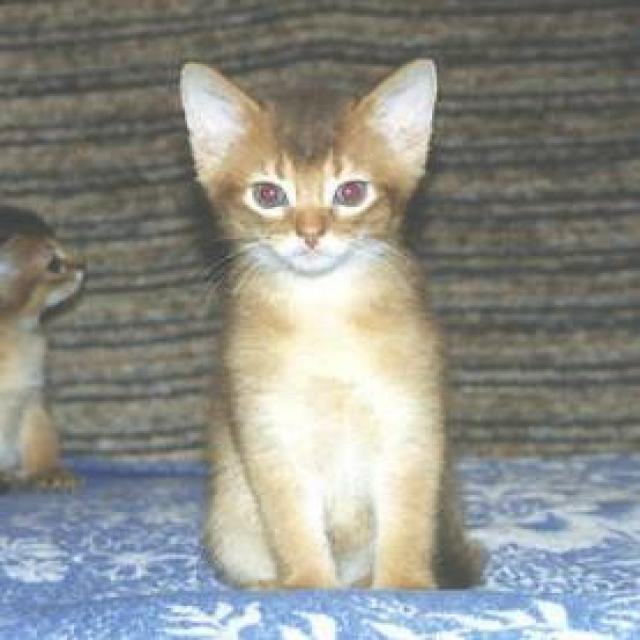Abyssinian: (175, 56, 446, 277)
